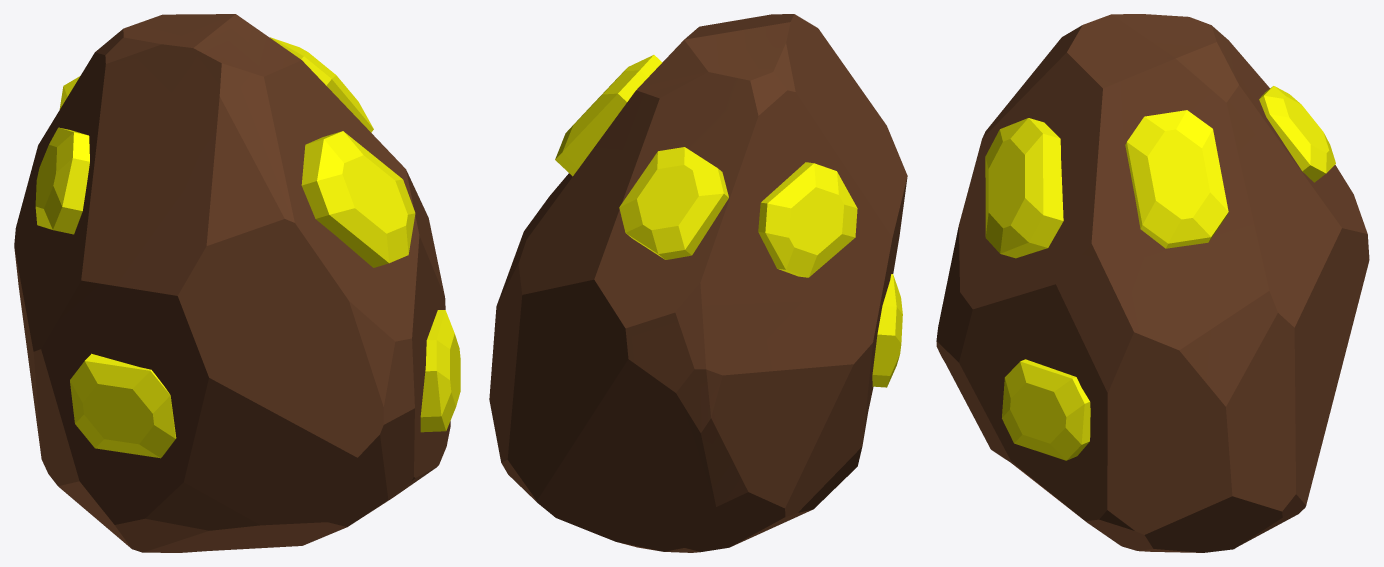
File: MineralNode_09_A.fbx
3 renders of one model, left to right at view 1: azimuth 30°, elevation 25°; view 2: azimuth 150°, elevation 25°; view 3: azimuth 270°, elevation 25°, orthographic. The views are drawn at different scales.
Visible parts, largest first — view 1: MineralNode_09_A; view 2: MineralNode_09_A; view 3: MineralNode_09_A.
Boxes of the visible parts, x1,y1,x2,y2 form: MineralNode_09_A: (14,14,460,552); MineralNode_09_A: (489,14,907,552); MineralNode_09_A: (936,14,1369,552).
Bounding box in the file's own units: 67.17 × 90.02 × 75.6.
